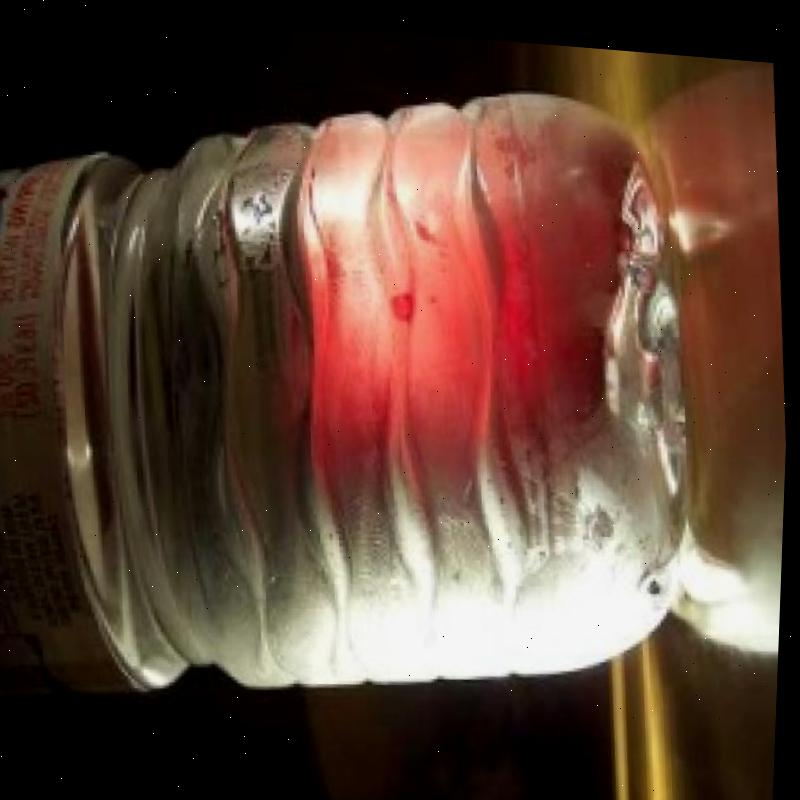botella: (0, 31, 716, 734)
